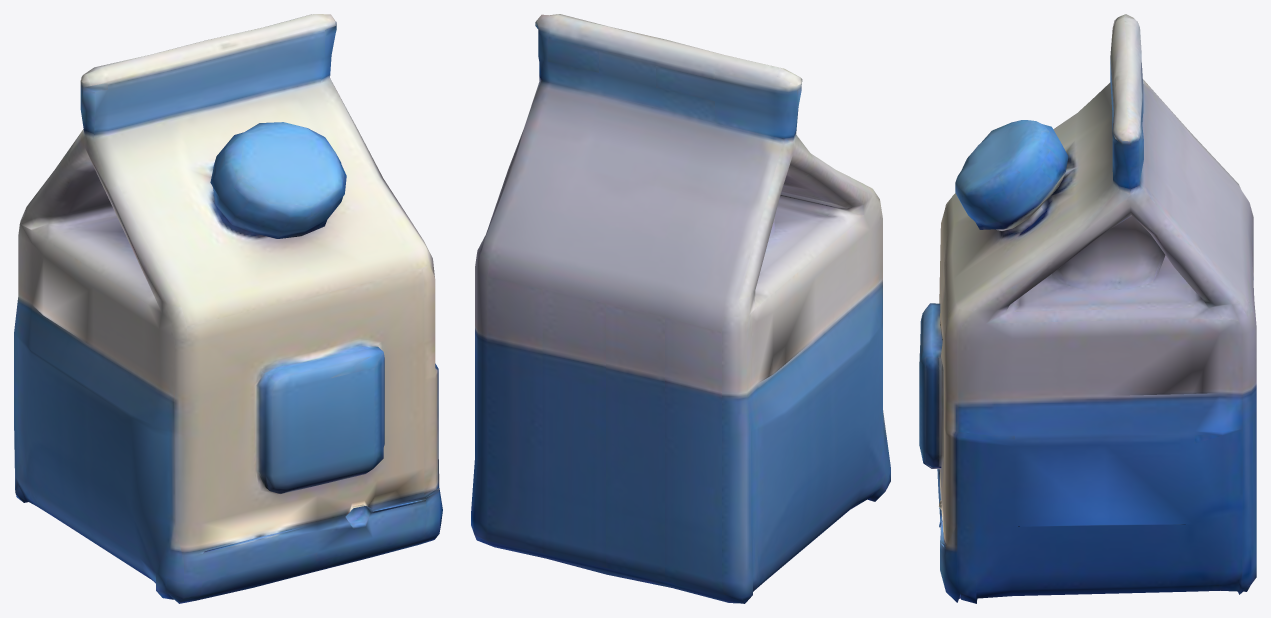
Rendered from milk.glb.
3 views of the same model, side by side, from view 1: azimuth 30°, elevation 25°; view 2: azimuth 150°, elevation 25°; view 3: azimuth 270°, elevation 25° (orthographic). The views are drawn at different scales.
Parts seen in each view (by area): view 1: Milk; view 2: Milk; view 3: Milk.
Boxes of the visible parts, box(x1,y1,x2,y2) form: Milk: box(14, 14, 442, 603); Milk: box(471, 14, 890, 603); Milk: box(919, 14, 1256, 603).
Bounding box in the file's own units: 1.13 × 1.71 × 1.12.
1 material, 1 textured.
